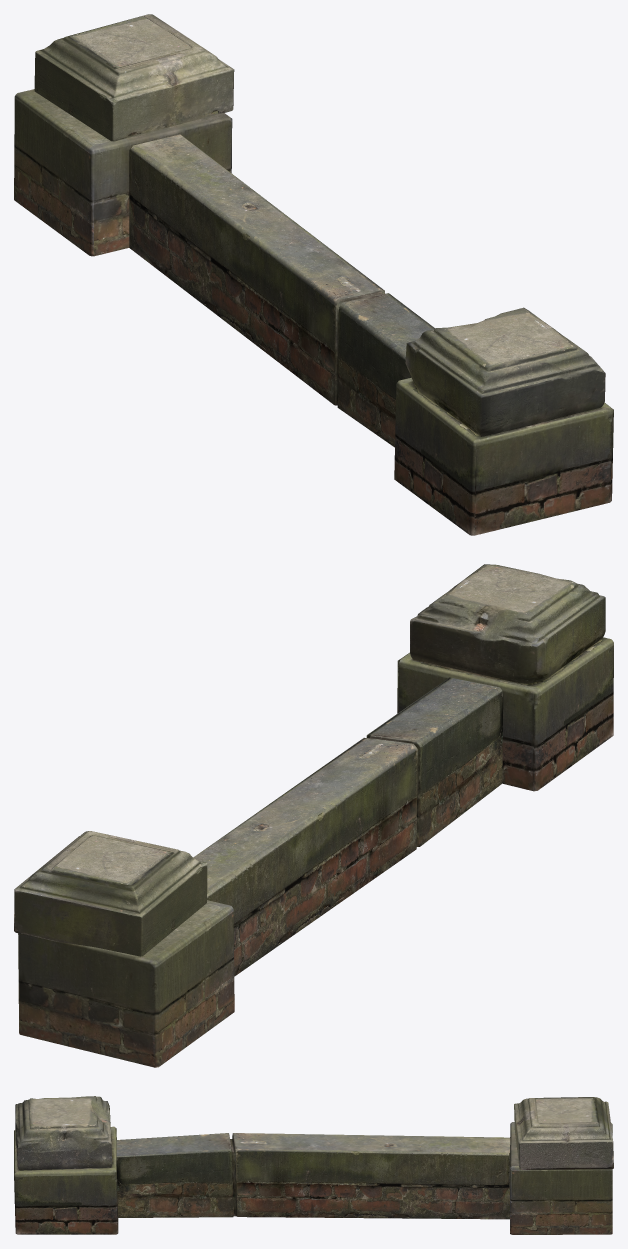
Rendered from sm_PlatformColumns_01_02.fbx.
3 views of the same model, one above another, from view 1: azimuth 30°, elevation 25°; view 2: azimuth 150°, elevation 25°; view 3: azimuth 270°, elevation 25° (orthographic). The views are drawn at different scales.
Parts seen in each view (by area): view 1: sm_PlatformColumns_01_02_LOD0; view 2: sm_PlatformColumns_01_02_LOD0; view 3: sm_PlatformColumns_01_02_LOD0.
Part boxes in pixels (x1=…): sm_PlatformColumns_01_02_LOD0: x1=14, y1=14, x2=613, y2=535; sm_PlatformColumns_01_02_LOD0: x1=14, y1=564, x2=613, y2=1067; sm_PlatformColumns_01_02_LOD0: x1=14, y1=1096, x2=613, y2=1234.
Bounding box in the file's own units: 53.97 × 285 × 55.57.
